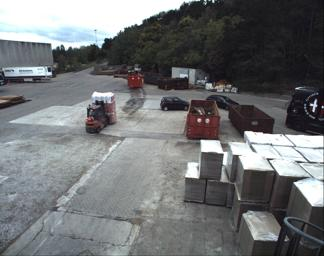rockwool_batts: (89, 90, 117, 122)
